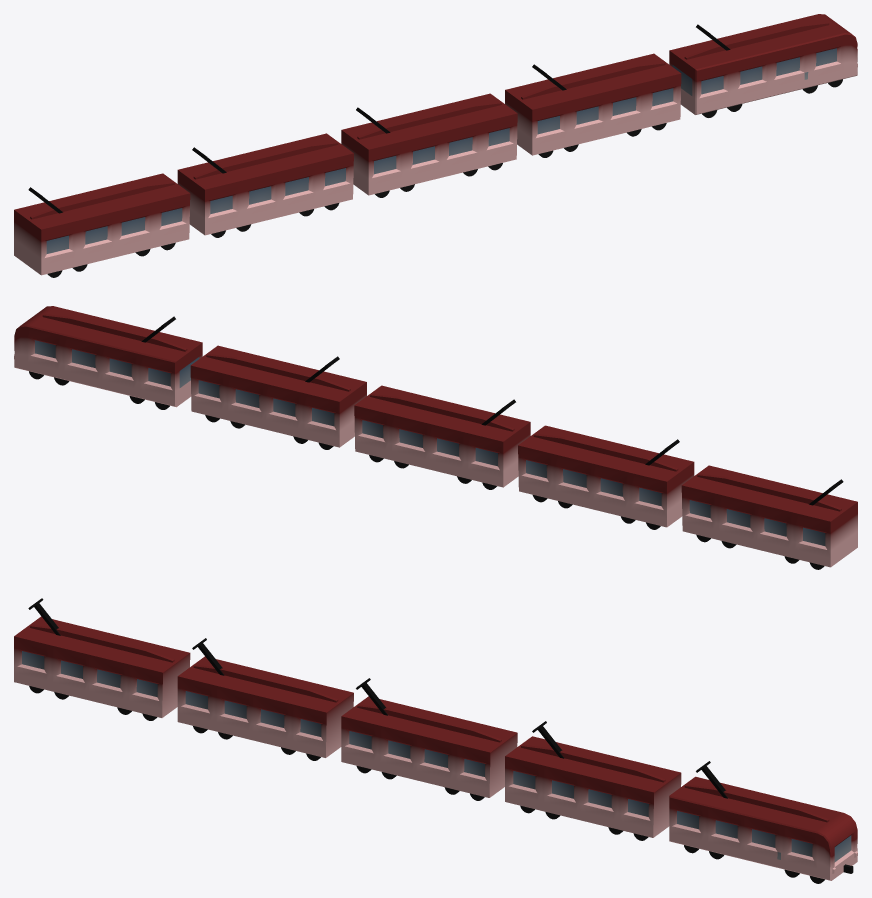
File: SM_Props_Train_01.fbx
3 views of the same model, one above another, from view 1: azimuth 30°, elevation 25°; view 2: azimuth 150°, elevation 25°; view 3: azimuth 330°, elevation 25° (orthographic).
Parts seen in each view (by area): view 1: matchsize36; view 2: matchsize36; view 3: matchsize36.
Boxes of the visible parts, x1=… form: matchsize36: x1=14, y1=14, x2=857, y2=277; matchsize36: x1=14, y1=306, x2=857, y2=569; matchsize36: x1=14, y1=598, x2=857, y2=883.
Bounding box in the file's own units: 30.45 × 2.88 × 1.74.
